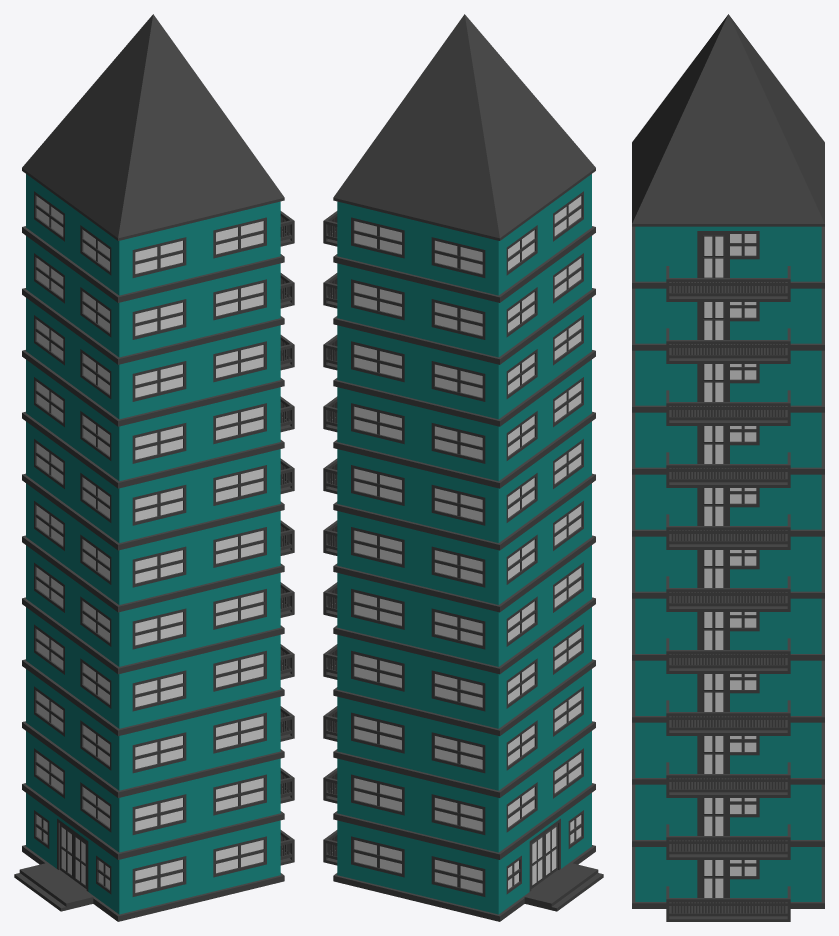
File: business building 19.fbx
3 renders of one model, left to right at view 1: azimuth 30°, elevation 25°; view 2: azimuth 150°, elevation 25°; view 3: azimuth 270°, elevation 25°, orthographic.
Parts seen in each view (by area): view 1: building_001; view 2: building_001; view 3: building_001.
Part boxes in pixels (box(x1,y1,x2,y2)): building_001: box(14, 14, 294, 921); building_001: box(323, 14, 603, 921); building_001: box(632, 14, 824, 921).
Size of the model in its own units: 840 by 3030 by 620.
